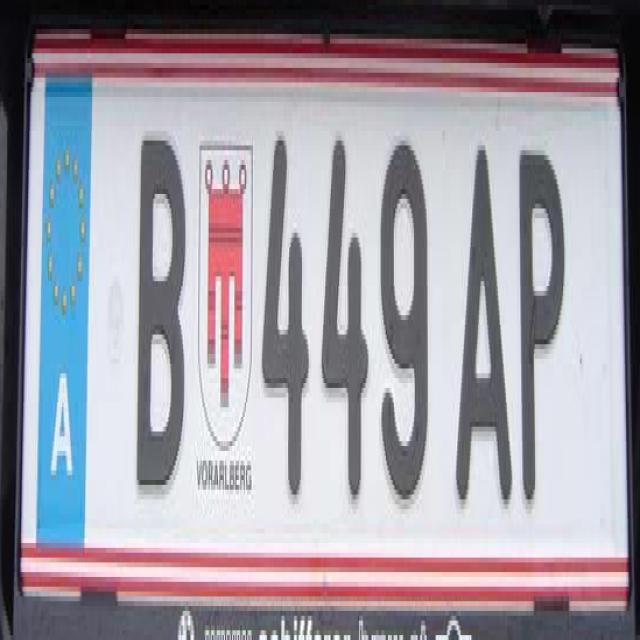Autriche: (45, 67, 90, 549)
EU: (23, 56, 630, 607)
